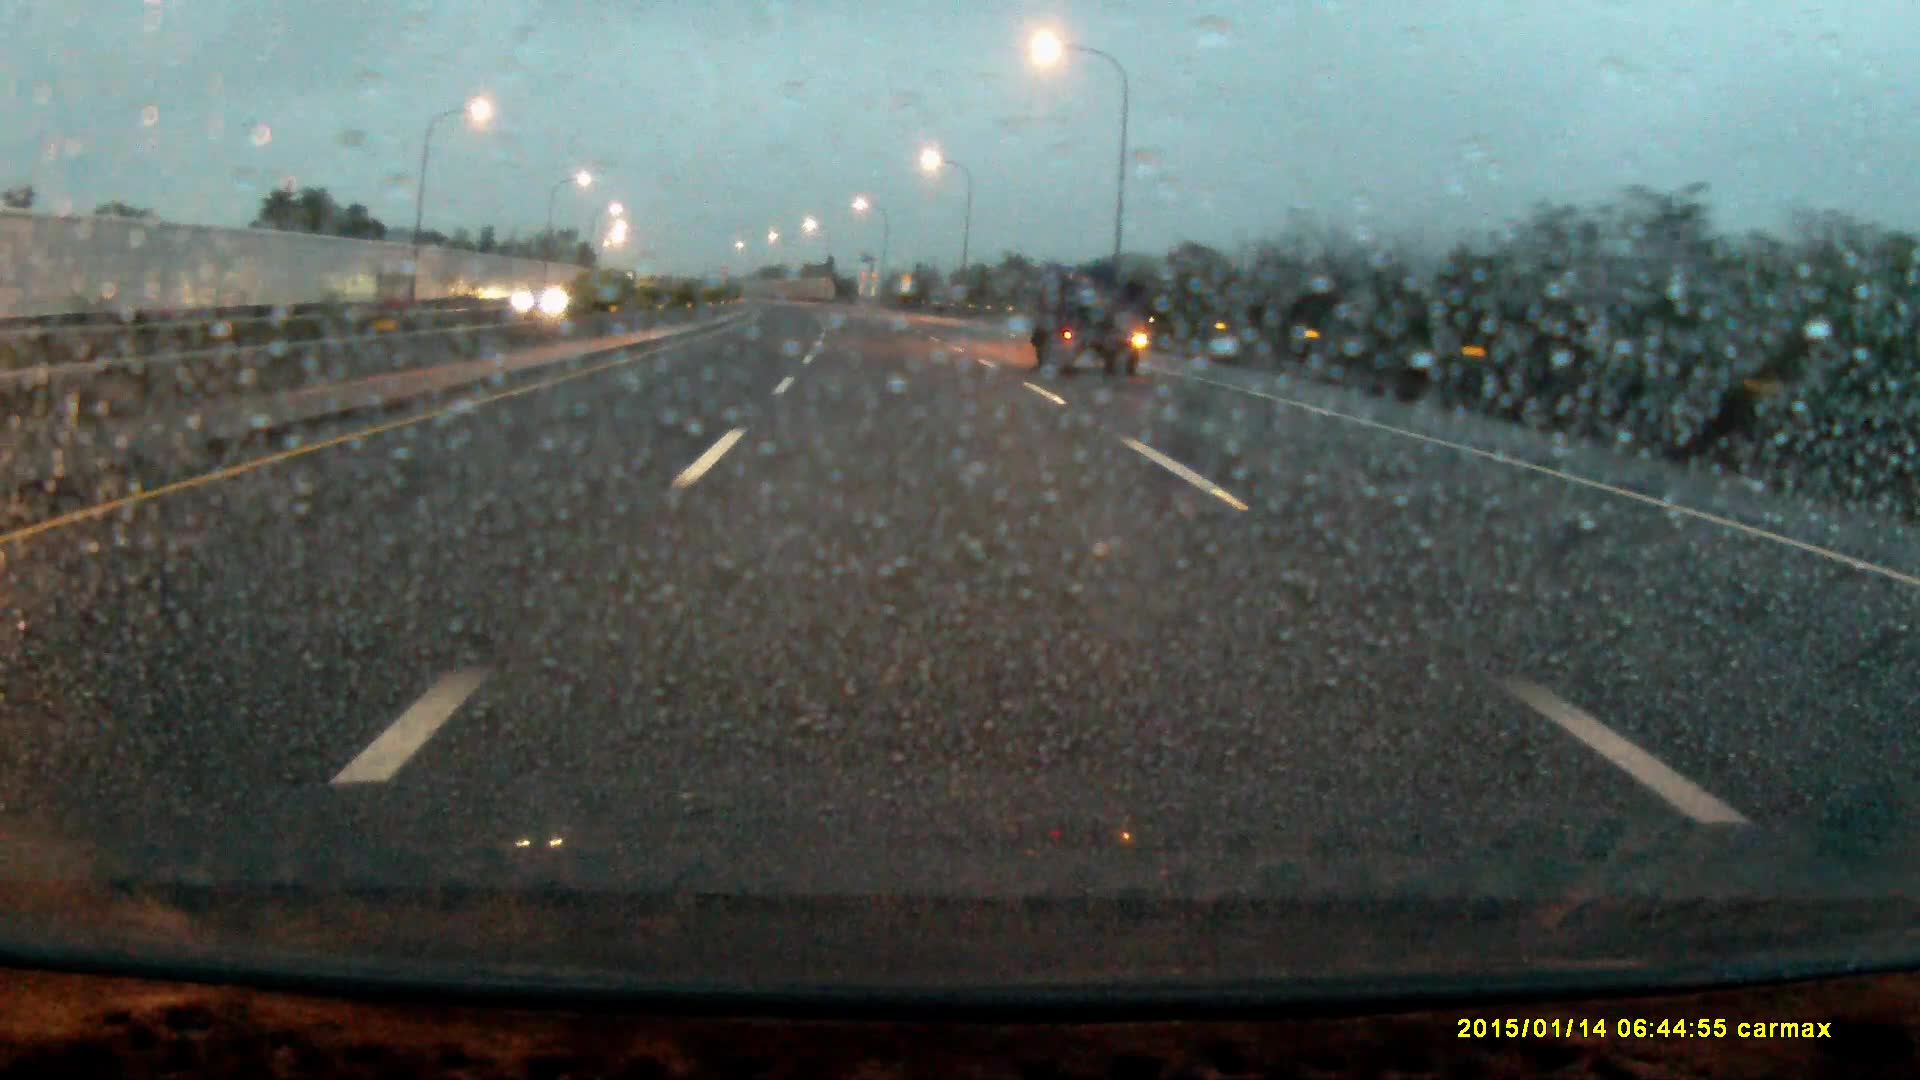vehicle: (1036, 272, 1145, 378), (517, 282, 576, 319)
